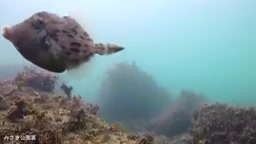kawahagi: (4, 9, 129, 77)
